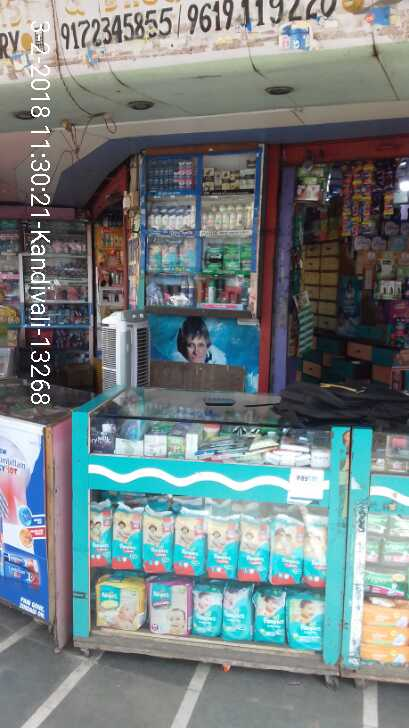vicks: (144, 158, 193, 191)
